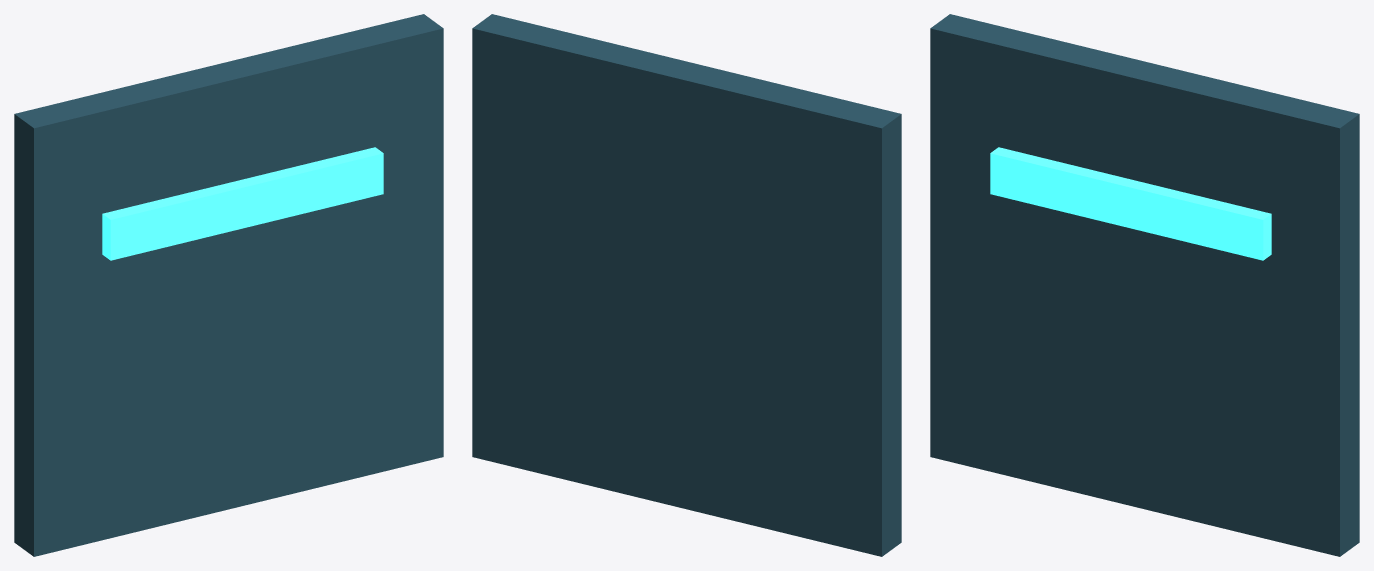
File: City_ChargePost_Display.glb
3 renders of one model, left to right at view 1: azimuth 30°, elevation 25°; view 2: azimuth 150°, elevation 25°; view 3: azimuth 330°, elevation 25°, orthographic.
Parts seen in each view (by area): view 1: City_ChargePost_Display; view 2: City_ChargePost_Display; view 3: City_ChargePost_Display.
Part boxes in pixels (<box>): City_ChargePost_Display: <box>14,14,443,556</box>; City_ChargePost_Display: <box>472,14,901,556</box>; City_ChargePost_Display: <box>930,14,1359,556</box>.
Size of the model in its own units: 0.42 by 0.42 by 0.05.
